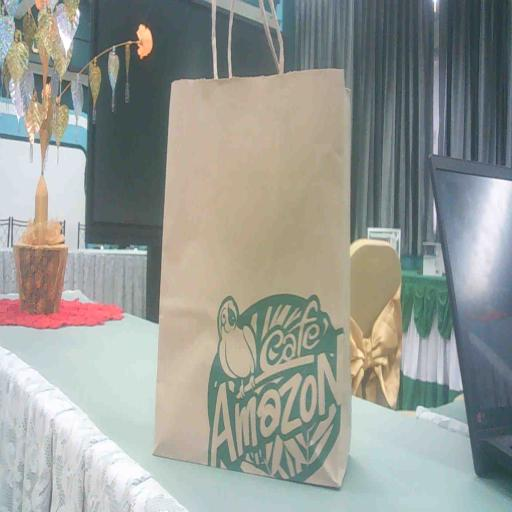bag: (152, 64, 360, 498)
